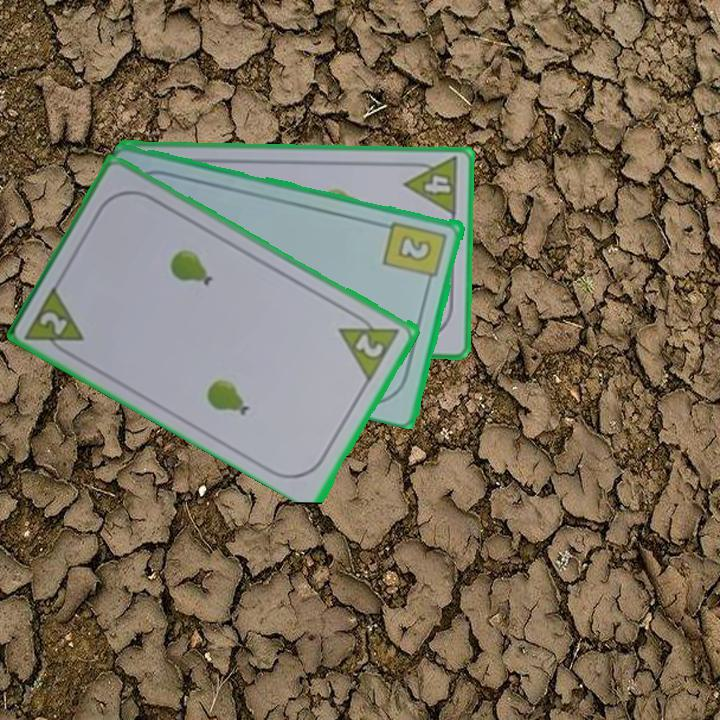2b: (381, 218, 450, 288)
2p: (22, 281, 88, 362), (352, 330, 387, 361)
4p: (401, 154, 461, 219)
